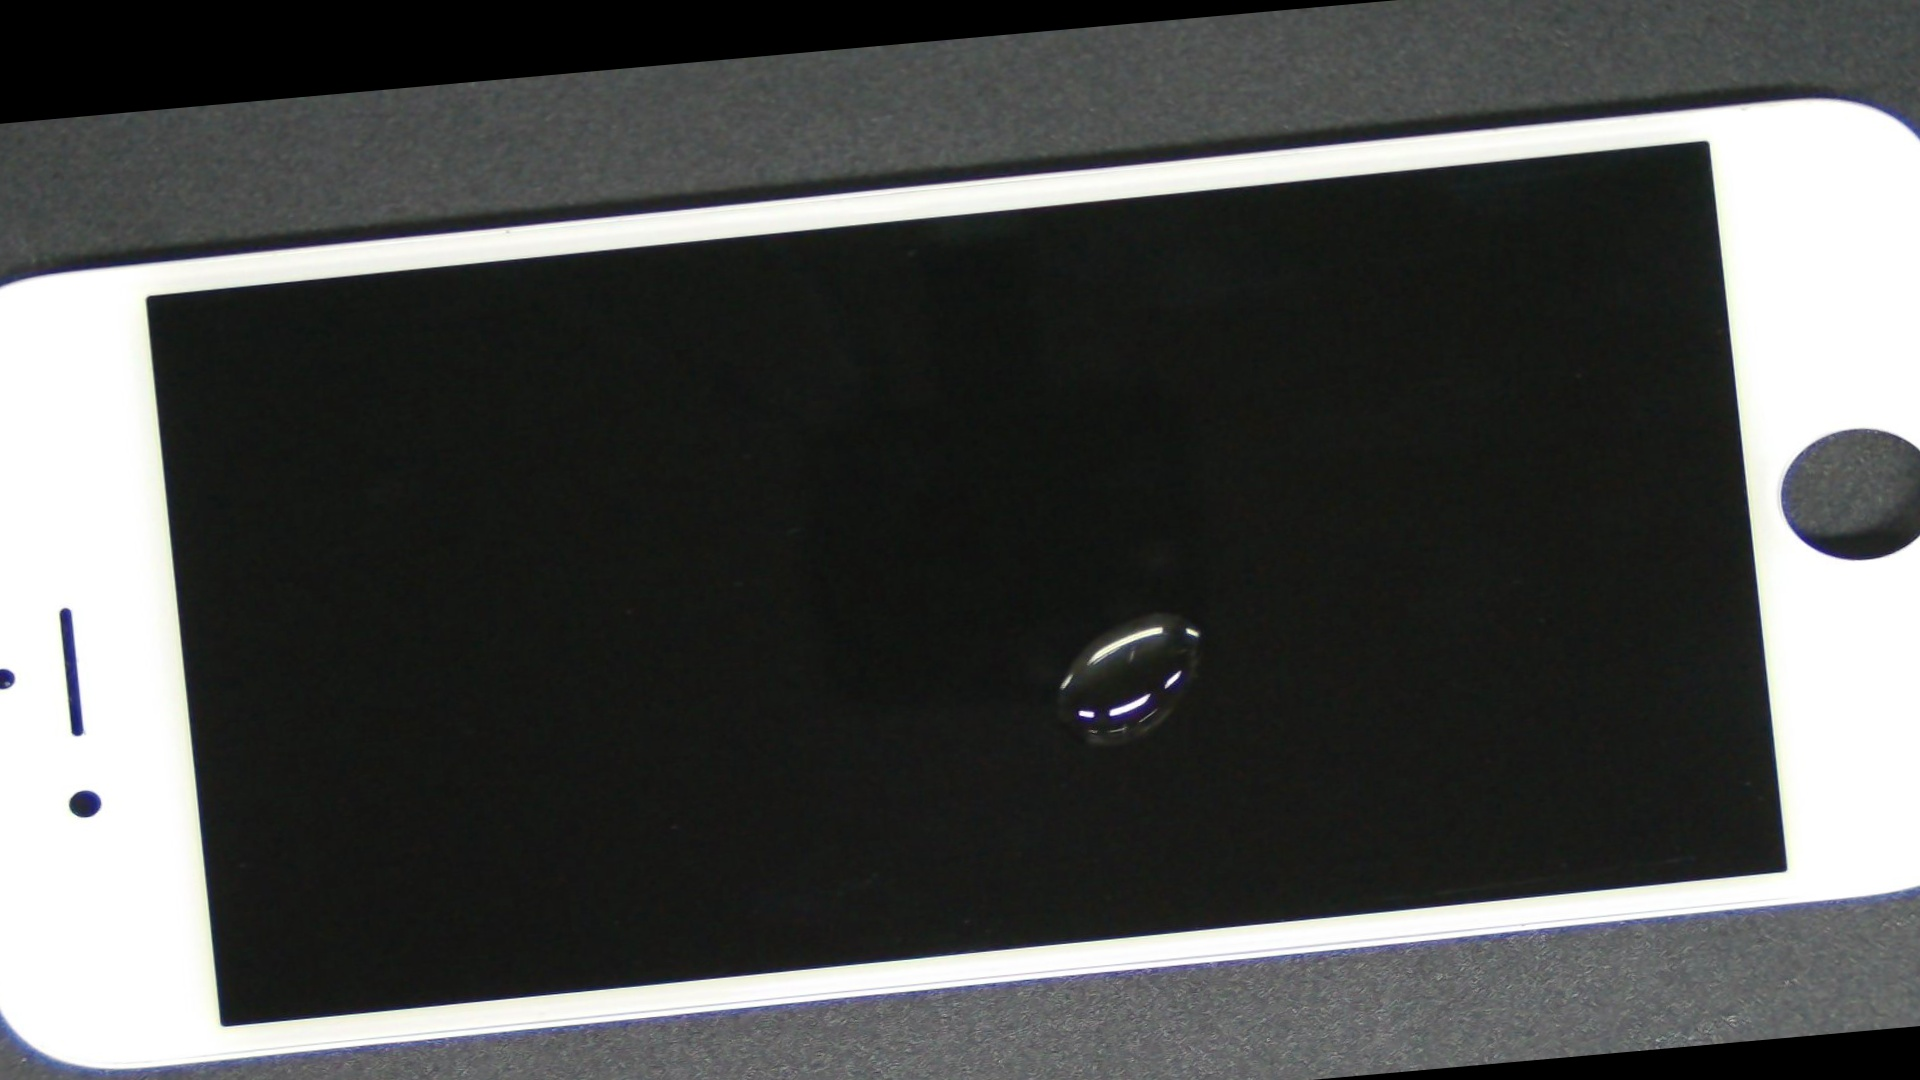oil: (472, 262, 1830, 967)
